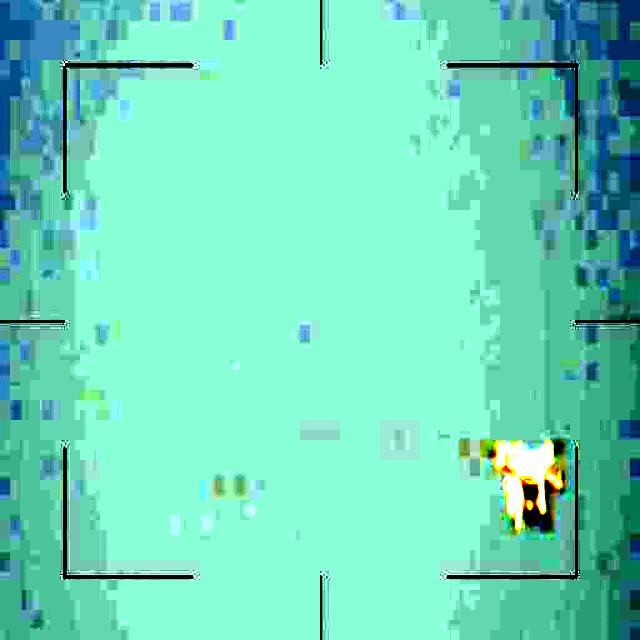bird: (489, 440, 568, 532)
